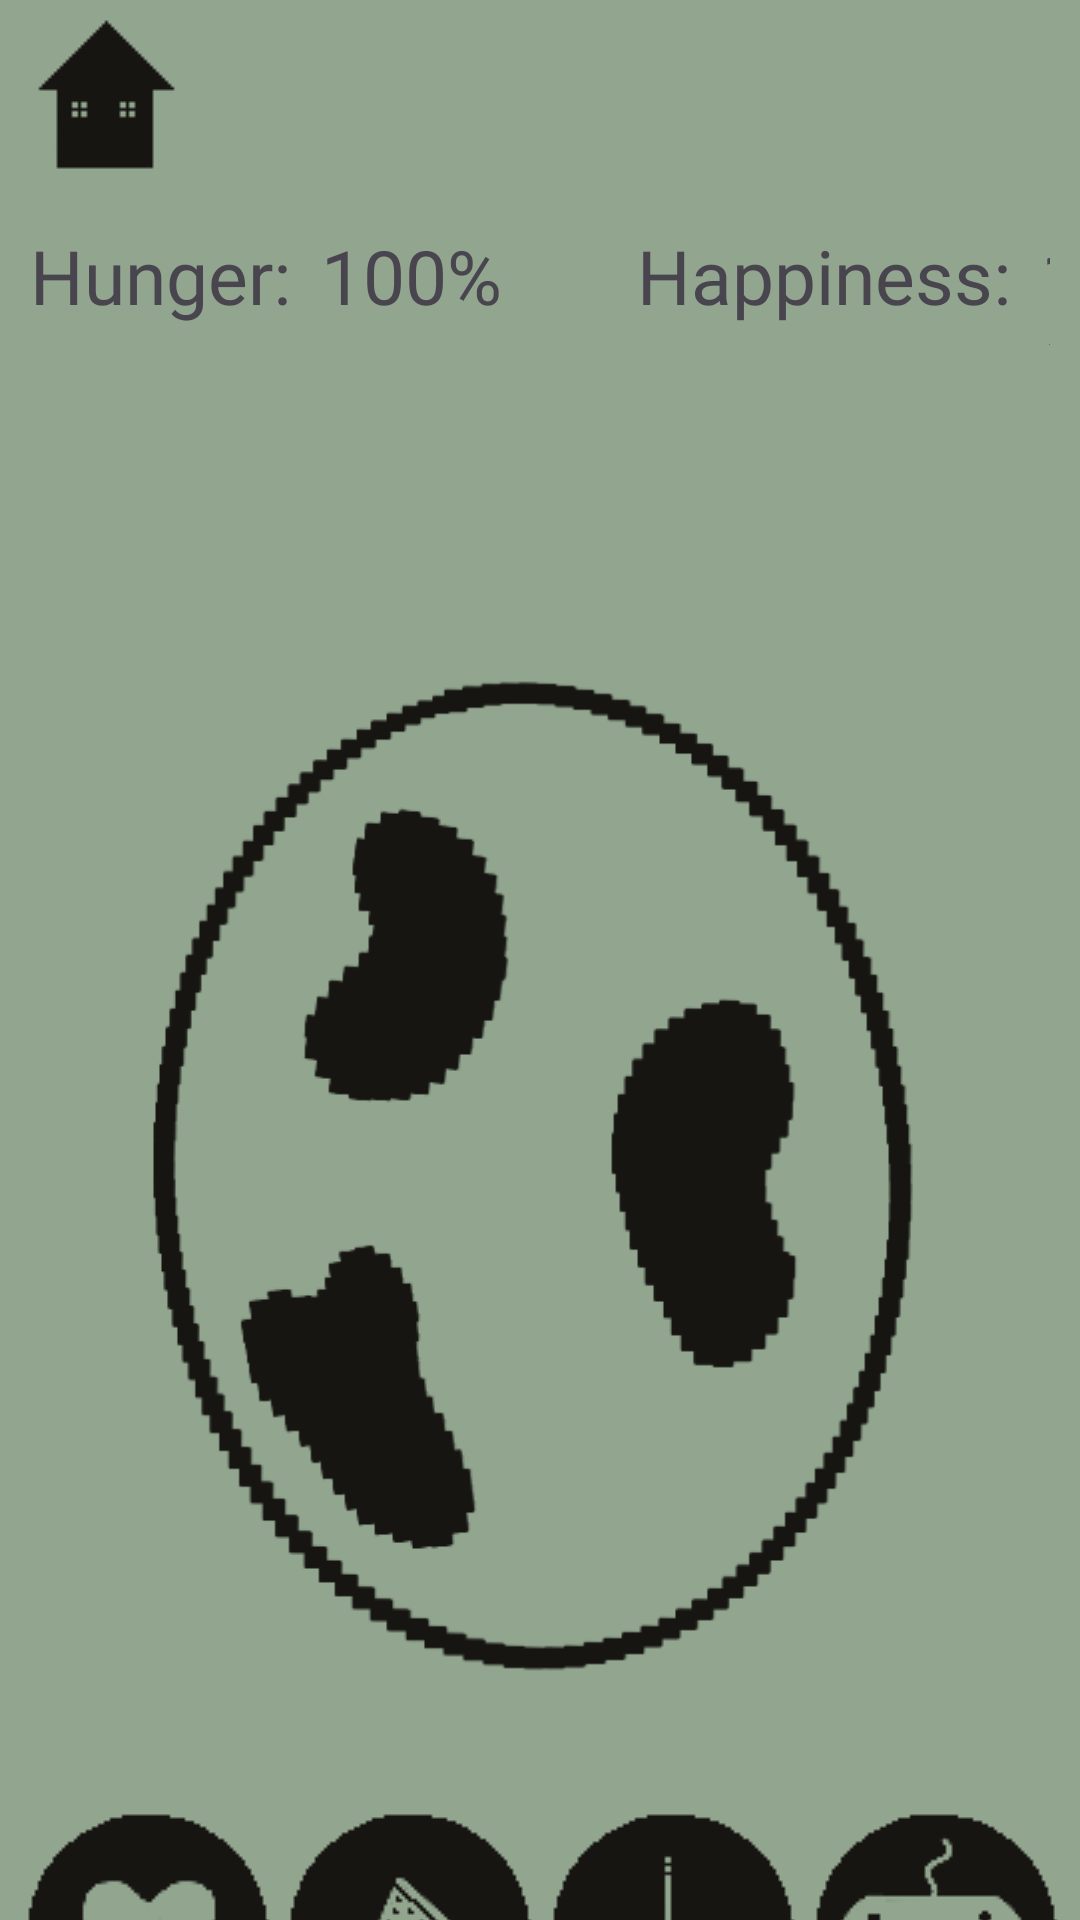

Screen size 1080*1920. Icon name, then its center in pixels as [x,y]:
Home button: [106,94]
